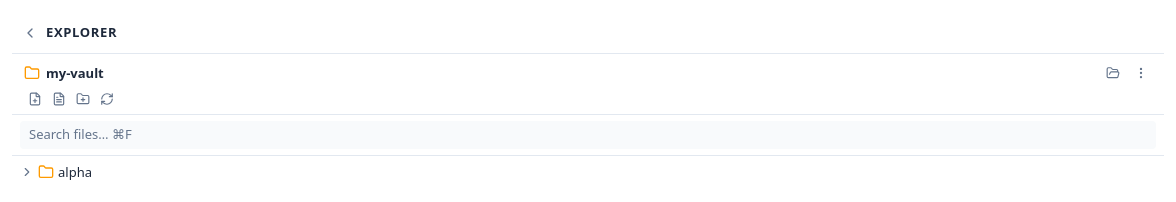
Scenario: ExplorerPanel — folder selection (FS-2.3-46..48) › FS-2.3-46: clicking a folder selects it with blue highlight
Step 1. Click the text "alpha" → coordinates (75, 172), box [58,163,92,181]
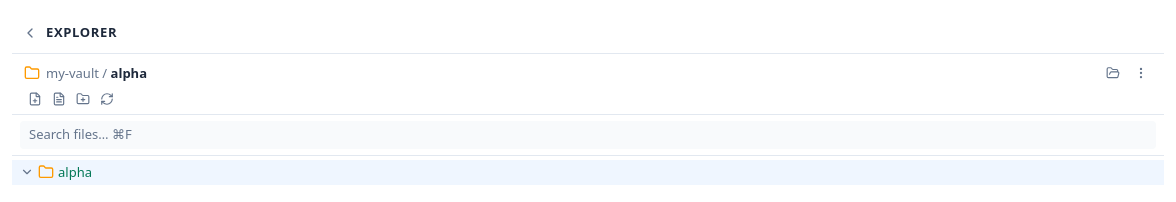
Now the list item "alpha" is shown, box [12,160,1164,185]
